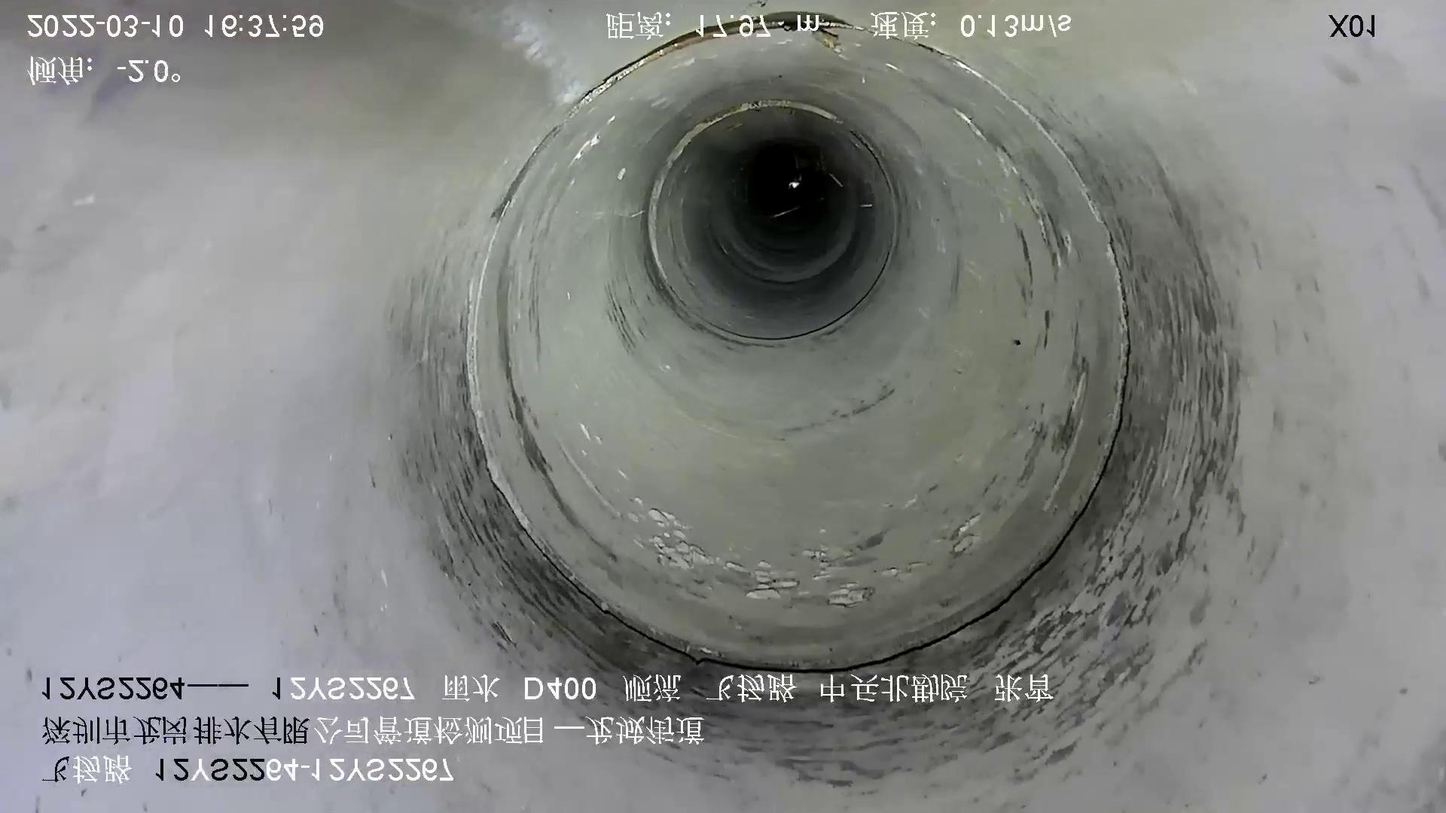CKTJ: (464, 12, 1130, 672), (647, 95, 900, 348)
